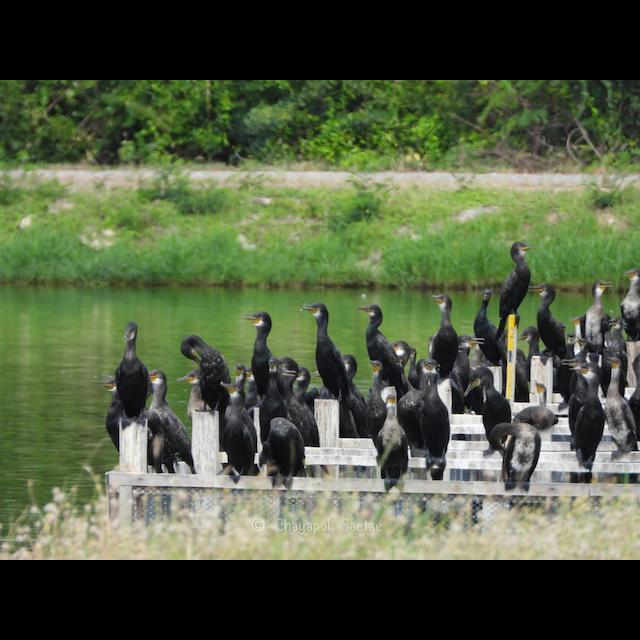cormorant: (560, 350, 606, 480), (291, 302, 353, 384), (170, 334, 230, 412), (110, 314, 154, 420), (370, 390, 414, 492), (484, 425, 550, 493), (256, 418, 314, 489), (463, 362, 513, 422), (423, 290, 461, 360), (242, 312, 278, 378), (500, 240, 532, 314), (573, 272, 615, 318), (356, 302, 394, 350), (470, 286, 500, 338), (521, 379, 553, 421)
